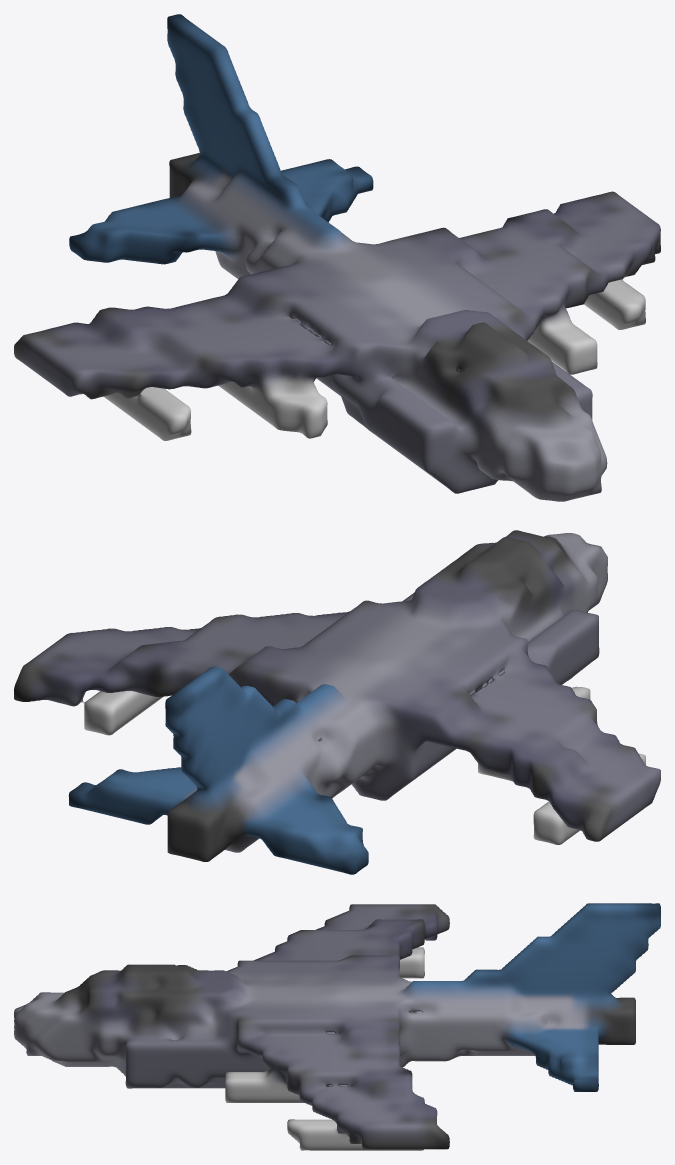
Rendered from harrier.glb.
The picture shows the model from 3 angles, top to bottom: view 1: azimuth 30°, elevation 25°; view 2: azimuth 150°, elevation 25°; view 3: azimuth 270°, elevation 25°; orthographic projection. The views are drawn at different scales.
Parts seen in each view (by area): view 1: harrier; view 2: harrier; view 3: harrier.
Boxes of the visible parts, bbox=[...] form: harrier: bbox=[14, 14, 660, 501]; harrier: bbox=[14, 530, 660, 874]; harrier: bbox=[14, 903, 660, 1150].
Size of the model in its own units: 3.54 by 1.22 by 4.31.
